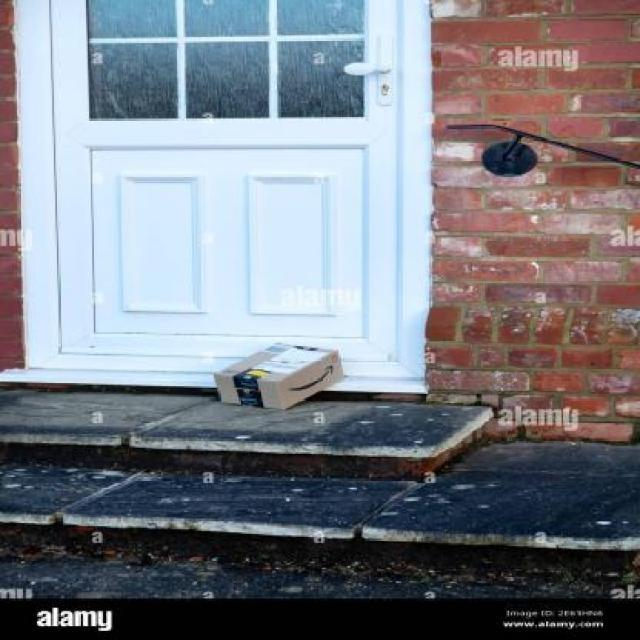obstacle: (200, 338, 360, 414)
